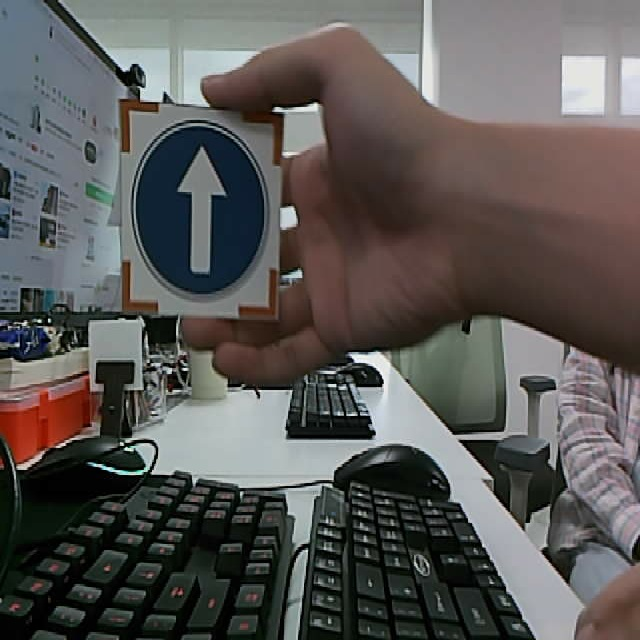straight: (115, 96, 285, 320)
